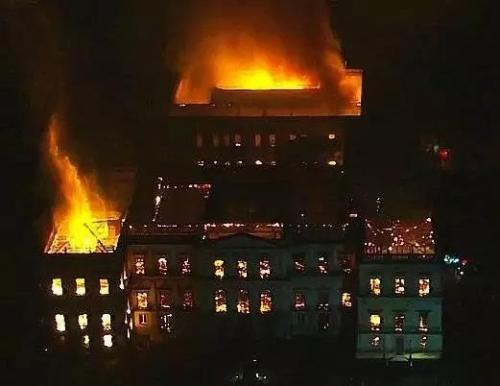fire: (45, 133, 119, 259), (206, 62, 325, 95)
smoke: (179, 10, 339, 51)
